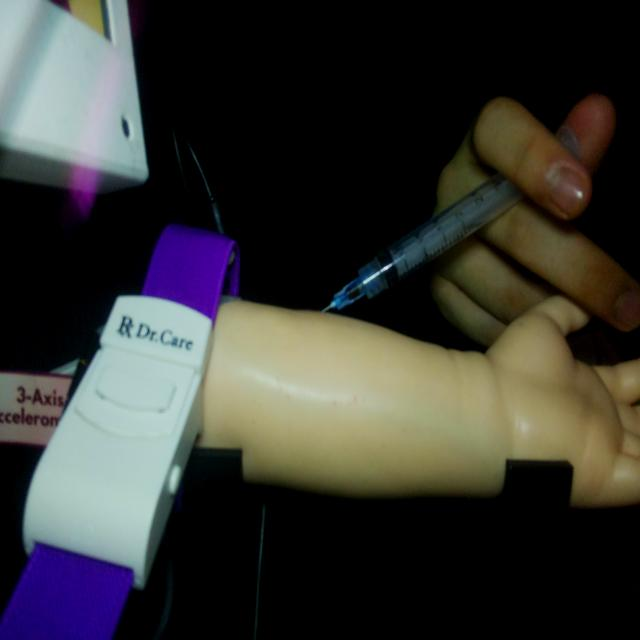24 degrees: (319, 121, 586, 316)
